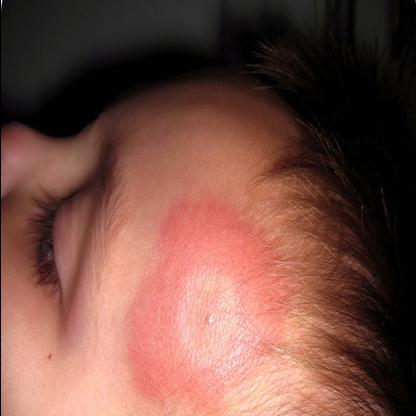Tick: (120, 189, 296, 415)
